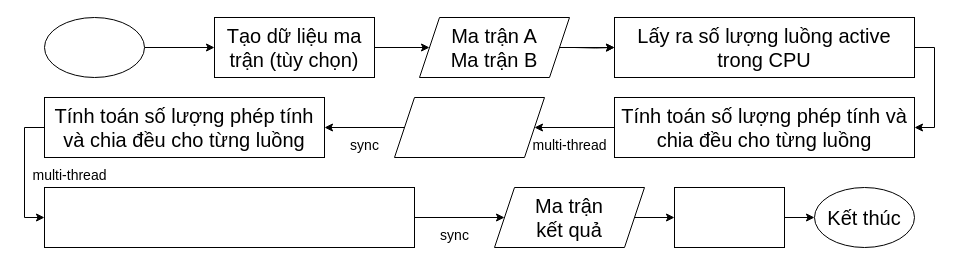
The diagram is 960 pixels wide and 265 high, and some of its shapes have lost their labels. The box of each missing label's shape, as (x1, y1, x2, y2) in pixels:
Bắt đầu: (44, 16, 144, 78)
Cộng từng hàng của ma trận trung gian Thay đổi lại kích thước: (44, 186, 414, 248)
In kết quả: (674, 186, 784, 248)
Ma trận trung gian: (394, 96, 544, 158)
